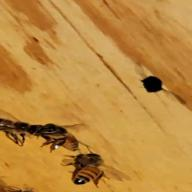Bee: (25, 118, 100, 156), (65, 148, 108, 188)
